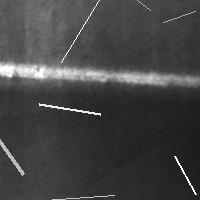scratches: (1, 61, 200, 89), (56, 0, 114, 67), (0, 106, 28, 179), (169, 151, 200, 199), (34, 99, 105, 119), (26, 190, 119, 200), (95, 0, 155, 15), (158, 6, 200, 27)
